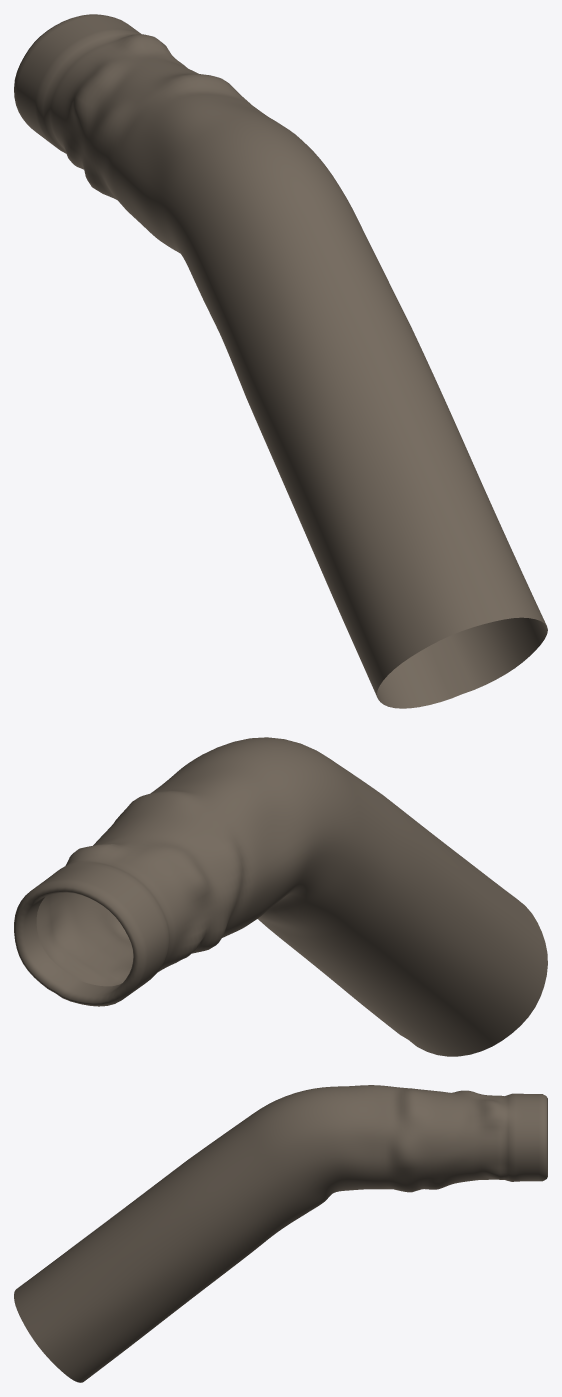
Rendered from manica_libera.fbx.
The picture shows the model from 3 angles, top to bottom: view 1: azimuth 30°, elevation 25°; view 2: azimuth 150°, elevation 25°; view 3: azimuth 270°, elevation 25°; orthographic projection. The views are drawn at different scales.
Parts seen in each view (by area): view 1: manica_libera_manica; view 2: manica_libera_manica; view 3: manica_libera_manica.
Part boxes in pixels (left/top/right/bottom): manica_libera_manica: left=14, top=14, right=547, bottom=708; manica_libera_manica: left=14, top=737, right=547, bottom=1056; manica_libera_manica: left=14, top=1085, right=547, bottom=1382.
Size of the model in its own units: 0.1053 by 0.2784 by 0.4732.
